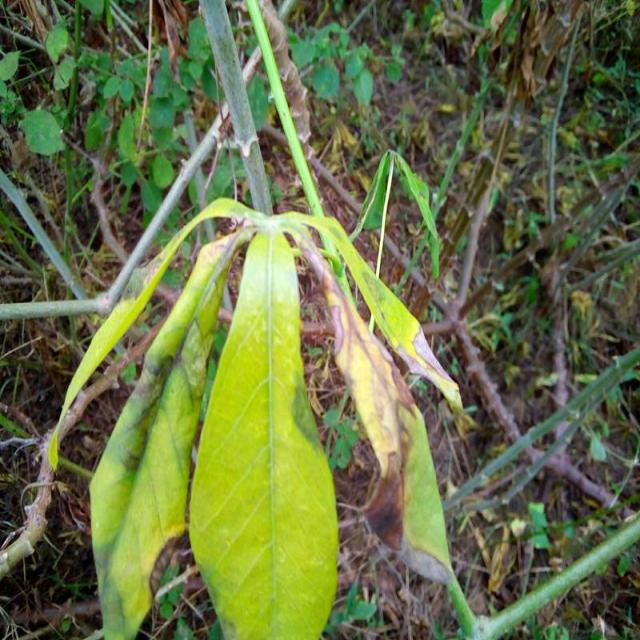cassava leaf: (89, 224, 250, 639), (188, 224, 340, 639)
